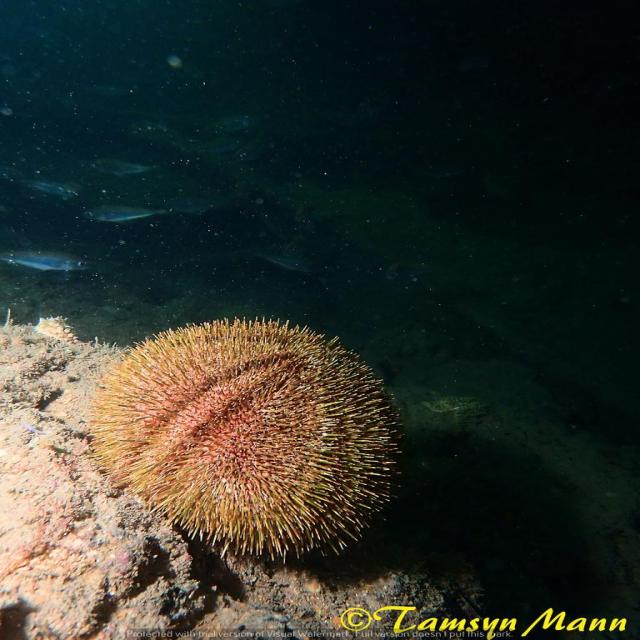Deniz Kestanesi: (85, 316, 404, 563)
